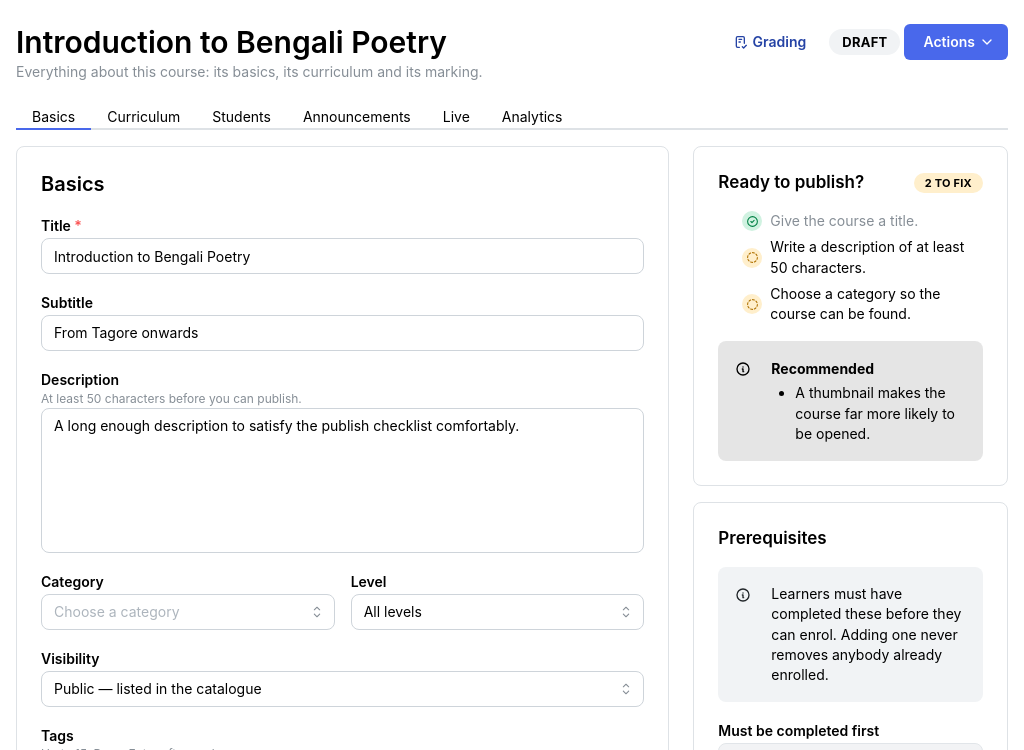
Test case: CourseEditorRoute › lists every reason a publish was refused
Step 1. Click the button "Actions" → (956, 42), box [904, 24, 1008, 60]
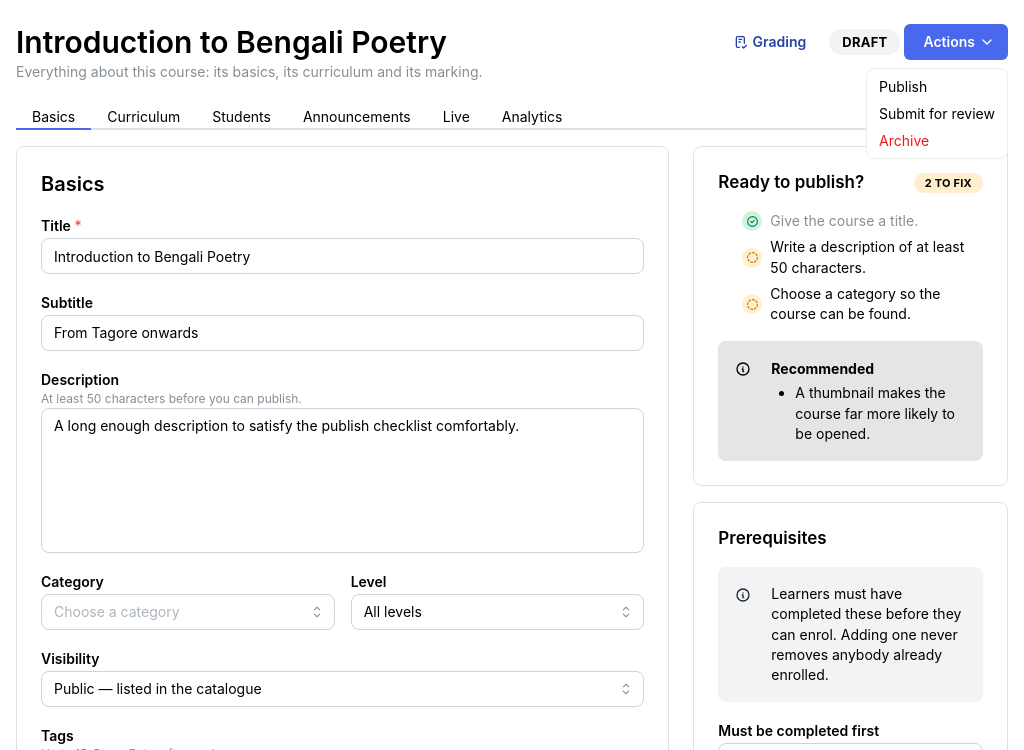
Step 2. Click the menu item "Publish" → (937, 86), box [871, 73, 1003, 100]
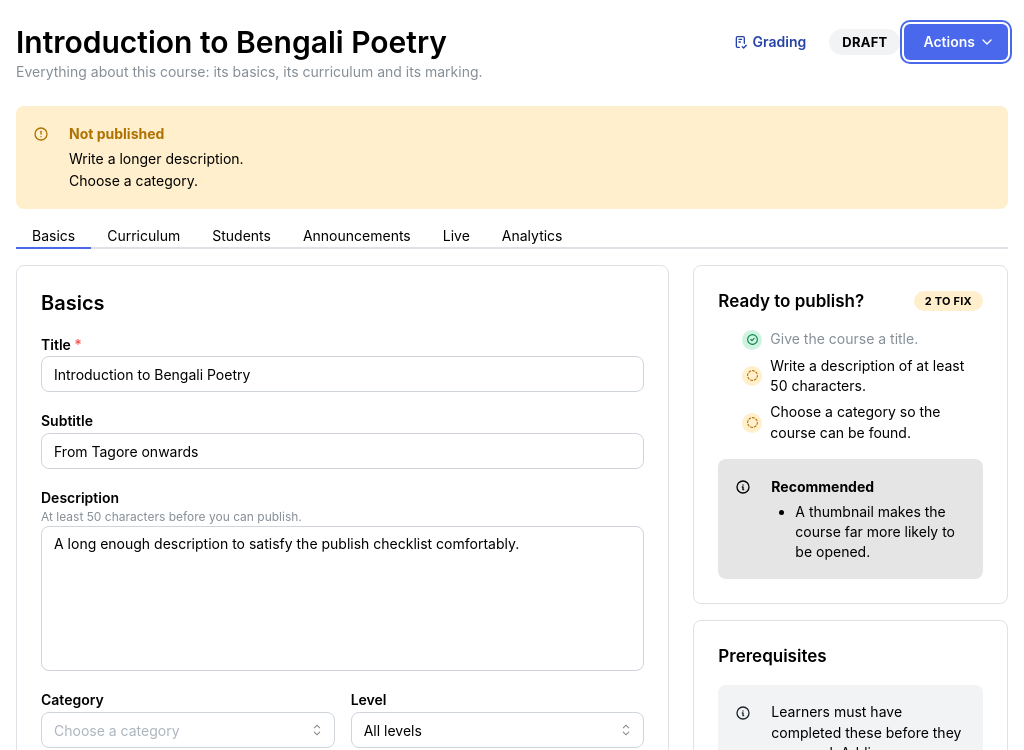
Expected: the message "Not published Write a longer description. Choose a category." is shown, [16, 106, 1008, 209]
